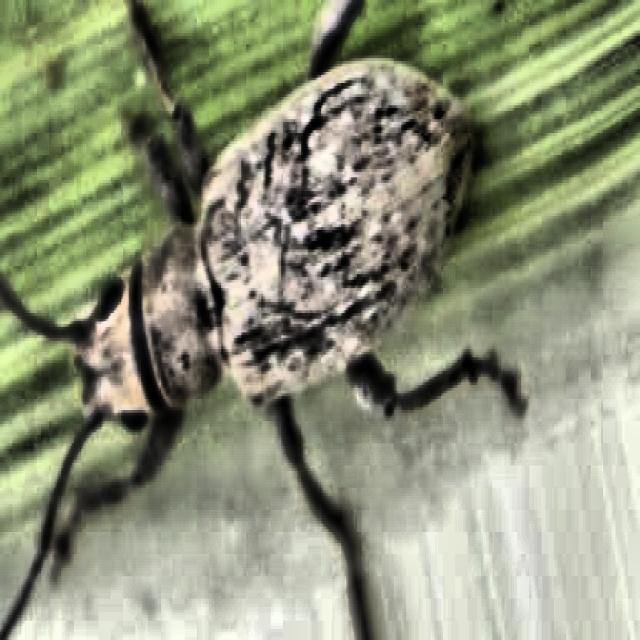Stink bug: (15, 22, 482, 542)
